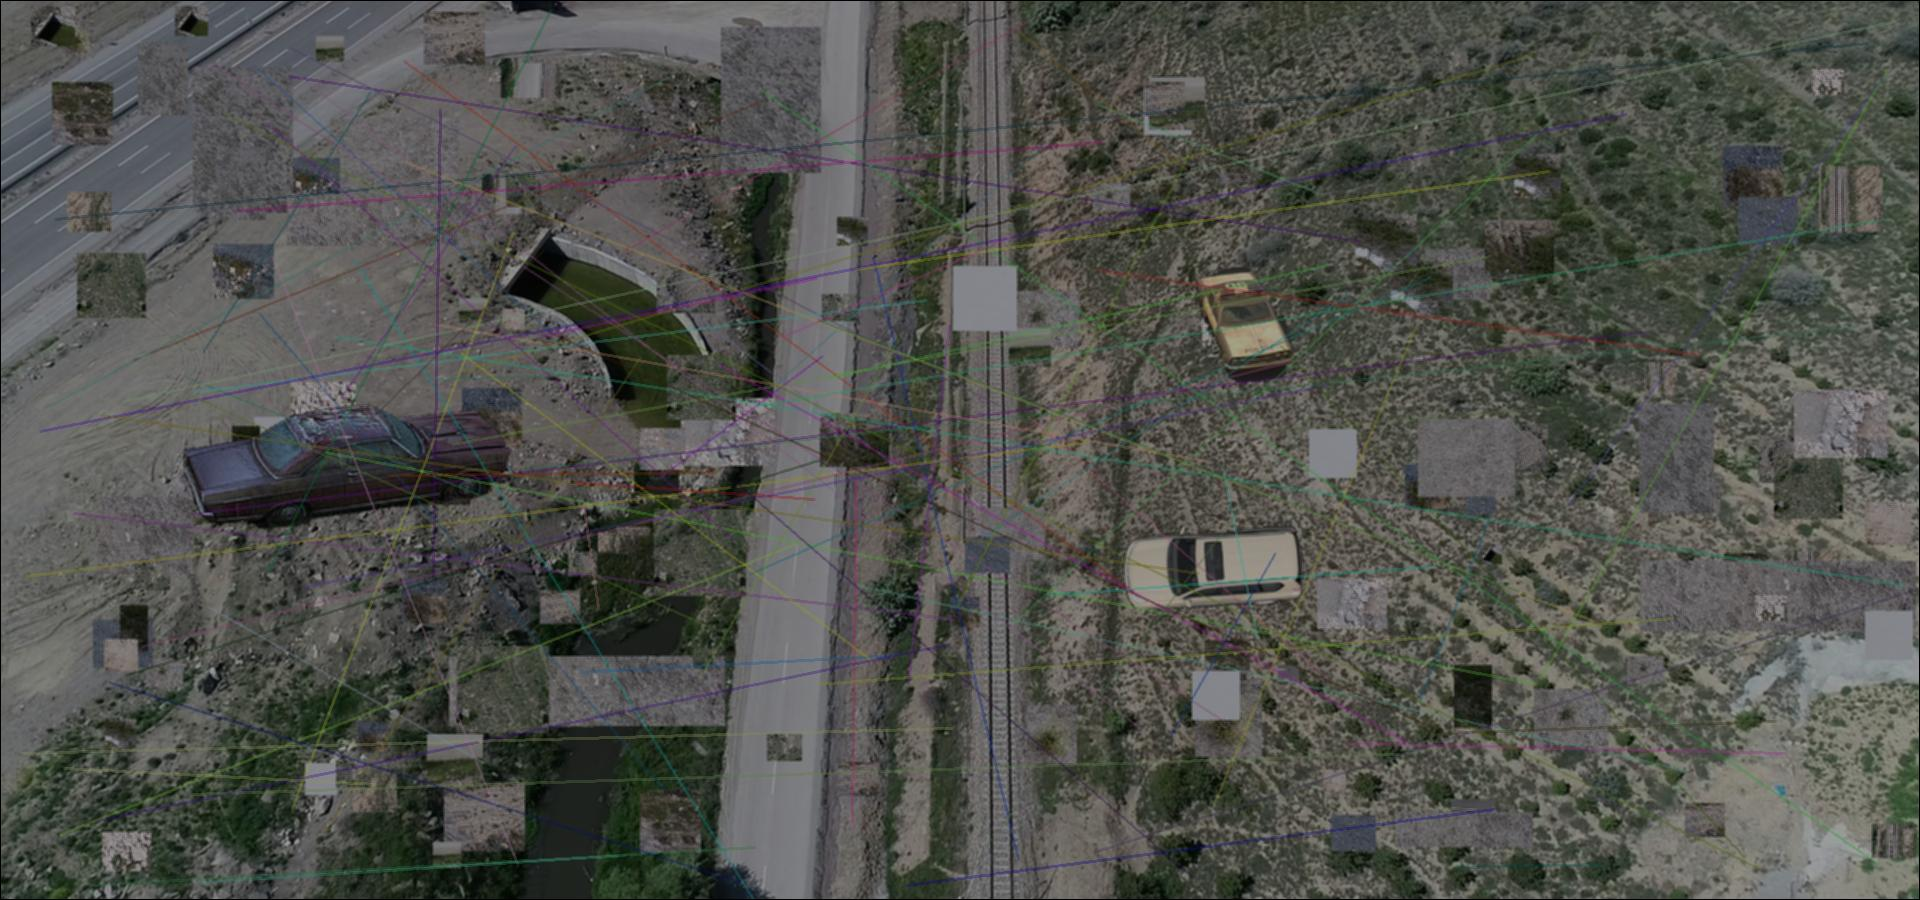arac: (178, 398, 512, 533), (1114, 520, 1307, 609), (1187, 264, 1299, 382)
